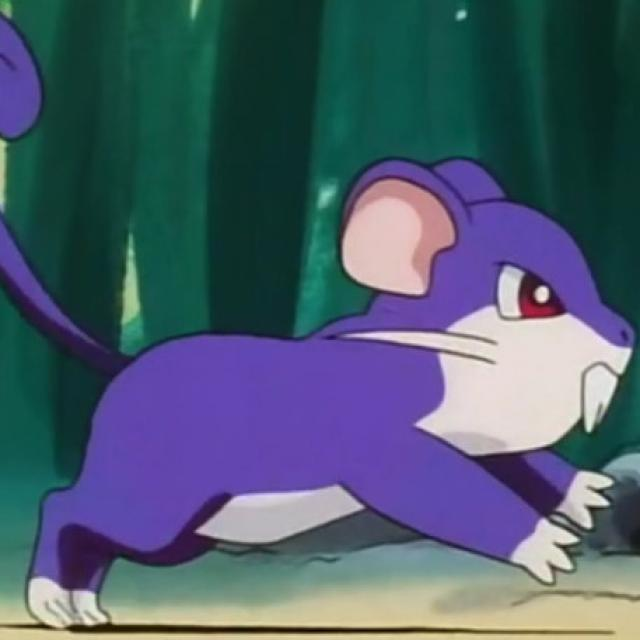Rattata: (59, 220, 611, 578)
